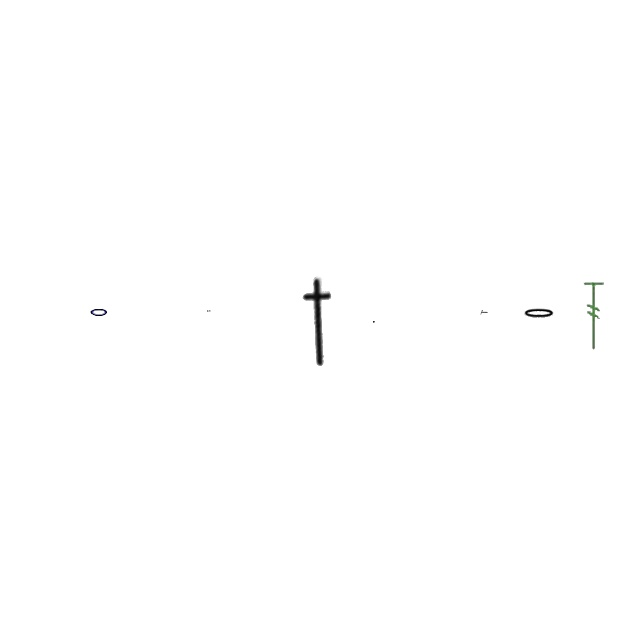chain: (522, 308, 556, 320), (89, 305, 109, 319), (207, 310, 211, 312), (373, 321, 375, 323)
enseble_chain: (292, 276, 346, 368), (480, 310, 488, 316)
fan: (581, 279, 607, 353)
